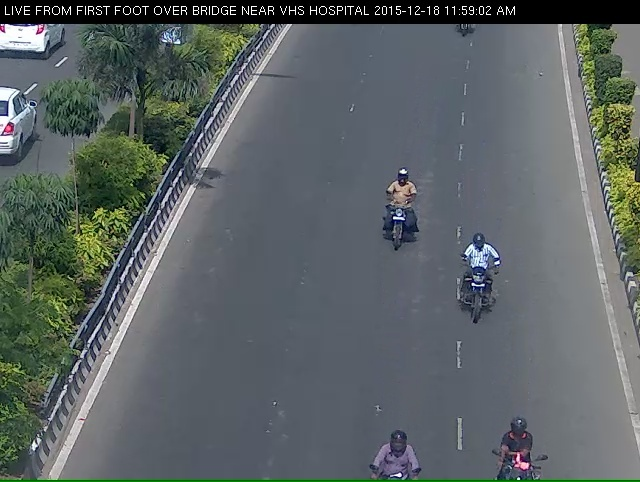Person: (452, 246, 510, 347), (373, 179, 421, 286)
